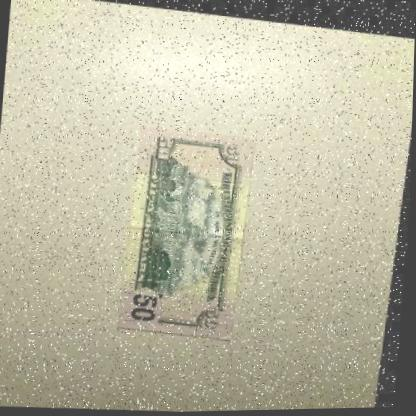dollar_back: (120, 119, 262, 338)
